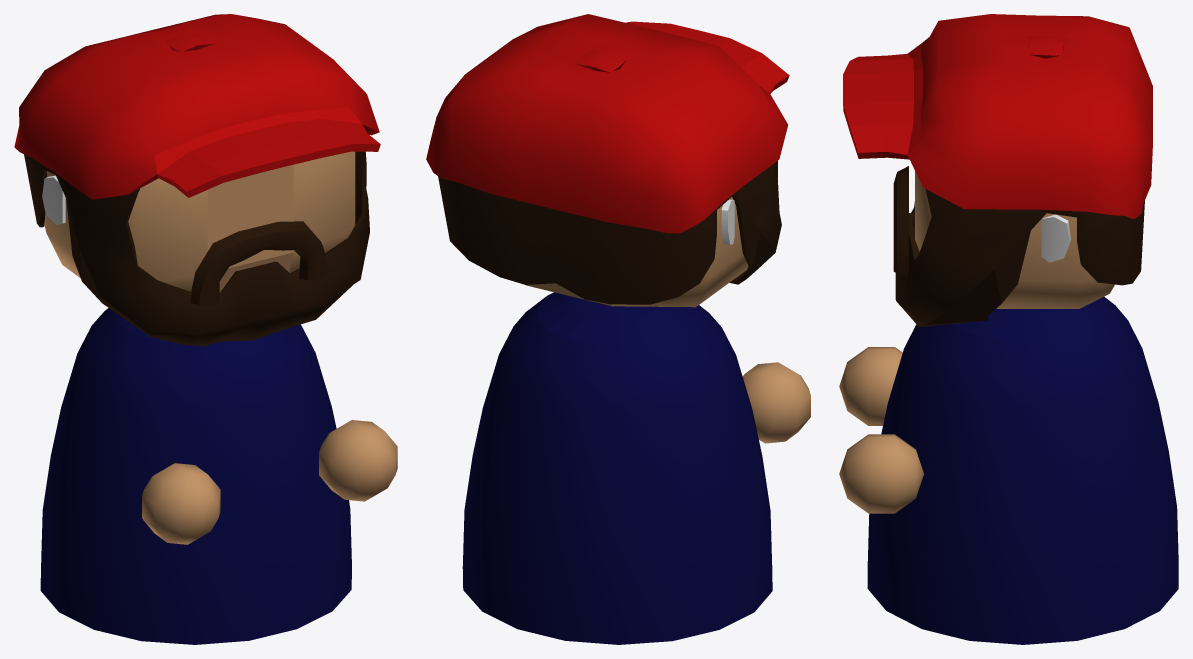
Rendered from Camionero_low.fbx.
3 renders of one model, left to right at view 1: azimuth 30°, elevation 25°; view 2: azimuth 150°, elevation 25°; view 3: azimuth 270°, elevation 25°, orthographic.
Visible parts, largest first — view 1: Cylinder001, Gorra, Plane001, Box001, Plane002, Sphere001, Sphere002, Oreja L; view 2: Cylinder001, Gorra, Plane001, Sphere002, Box001, Oreja L; view 3: Cylinder001, Gorra, Plane001, Box001, Sphere001, Sphere002, Plane002, Oreja R.
Boxes of the visible parts, x1=… form: Cylinder001: x1=40, y1=308, x2=351, y2=644; Gorra: x1=14, y1=14, x2=380, y2=199; Plane001: x1=24, y1=151, x2=369, y2=346; Box001: x1=44, y1=151, x2=355, y2=292; Plane002: x1=190, y1=221, x2=328, y2=306; Sphere001: x1=319, y1=420, x2=397, y2=501; Sphere002: x1=142, y1=463, x2=220, y2=544; Oreja L: x1=42, y1=175, x2=65, y2=224; Cylinder001: x1=462, y1=292, x2=772, y2=644; Gorra: x1=426, y1=14, x2=789, y2=233; Plane001: x1=438, y1=161, x2=781, y2=304; Sphere002: x1=742, y1=362, x2=810, y2=443; Box001: x1=526, y1=197, x2=748, y2=307; Oreja L: x1=721, y1=199, x2=734, y2=244; Cylinder001: x1=867, y1=296, x2=1178, y2=644; Gorra: x1=843, y1=14, x2=1152, y2=218; Plane001: x1=895, y1=189, x2=1144, y2=327; Box001: x1=915, y1=171, x2=1114, y2=308; Sphere001: x1=839, y1=434, x2=923, y2=513; Sphere002: x1=839, y1=347, x2=902, y2=425; Plane002: x1=893, y1=166, x2=908, y2=275; Oreja R: x1=1041, y1=214, x2=1071, y2=262.
Bounding box in the file's own units: 0.0492 × 0.0508 × 0.0889.
